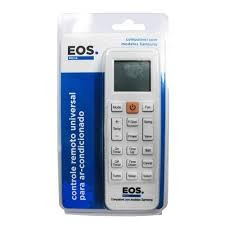remote control: (109, 53, 157, 208)
